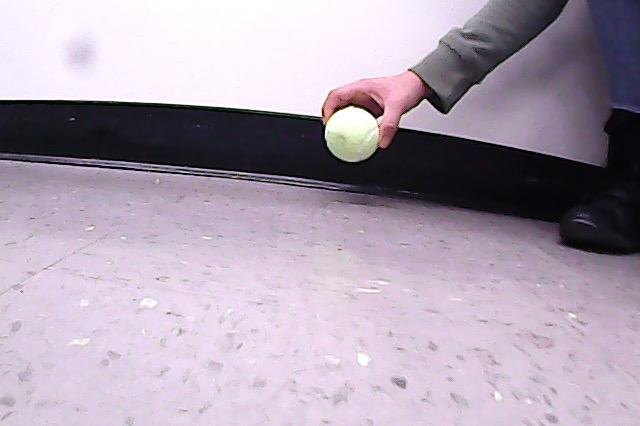ball: (325, 105, 381, 163)
